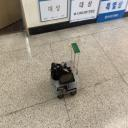cart: (50, 60, 80, 99)
